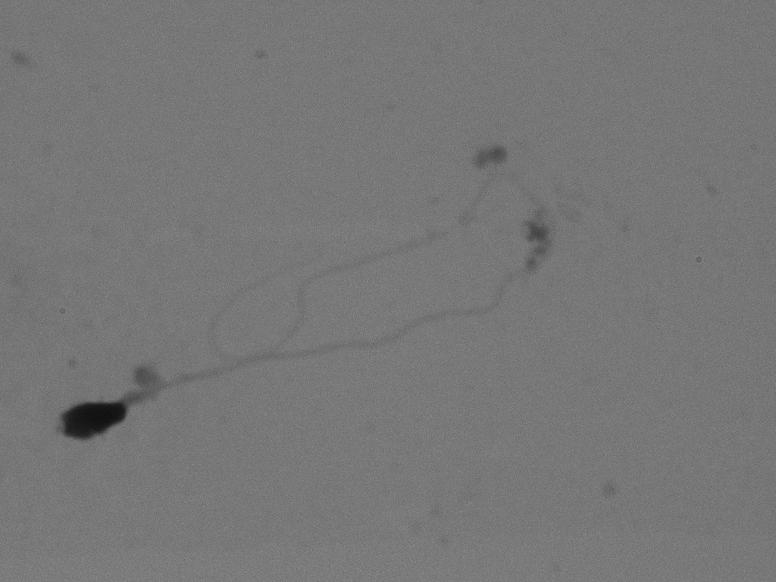Abnormal: (40, 154, 573, 456)
